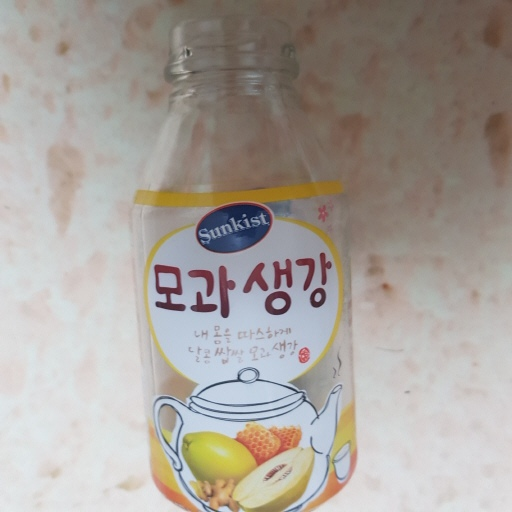Glass_4: (129, 13, 361, 512)
